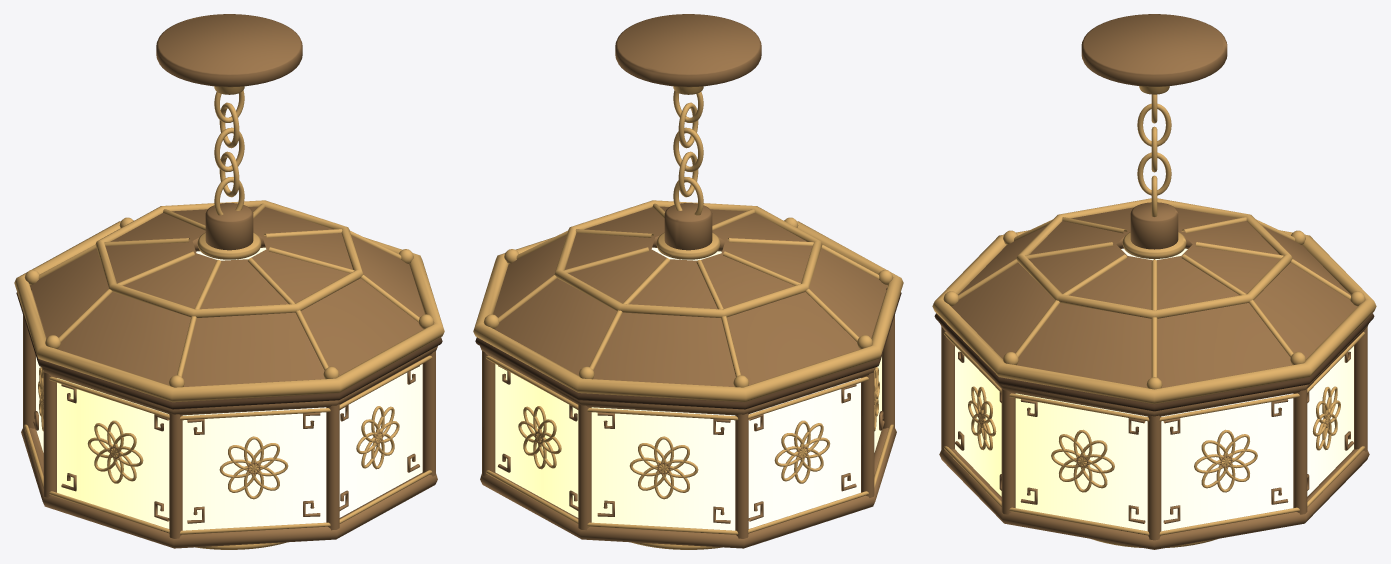
File: gallery-lantern.glb
3 views of the same model, side by side, from view 1: azimuth 30°, elevation 25°; view 2: azimuth 150°, elevation 25°; view 3: azimuth 270°, elevation 25° (orthographic).
Visible parts, largest first — view 1: Lantern_Antique bronze frame, Lantern_Warm frosted glass — opaque mobile safe, Lantern_Polished brass raised ornament, Lantern_Dark patinated recess; view 2: Lantern_Antique bronze frame, Lantern_Warm frosted glass — opaque mobile safe, Lantern_Polished brass raised ornament, Lantern_Dark patinated recess; view 3: Lantern_Antique bronze frame, Lantern_Warm frosted glass — opaque mobile safe, Lantern_Polished brass raised ornament, Lantern_Dark patinated recess.
Boxes of the visible parts, bbox=[...] form: Lantern_Antique bronze frame: bbox=[21, 14, 437, 548]; Lantern_Warm frosted glass — opaque mobile safe: bbox=[36, 247, 422, 530]; Lantern_Polished brass raised ornament: bbox=[14, 85, 444, 549]; Lantern_Dark patinated recess: bbox=[16, 288, 442, 409]; Lantern_Antique bronze frame: bbox=[480, 14, 896, 548]; Lantern_Warm frosted glass — opaque mobile safe: bbox=[495, 247, 881, 530]; Lantern_Polished brass raised ornament: bbox=[473, 85, 903, 549]; Lantern_Dark patinated recess: bbox=[475, 288, 901, 409]; Lantern_Antique bronze frame: bbox=[939, 14, 1369, 549]; Lantern_Warm frosted glass — opaque mobile safe: bbox=[955, 248, 1353, 531]; Lantern_Polished brass raised ornament: bbox=[932, 85, 1376, 547]; Lantern_Dark patinated recess: bbox=[934, 313, 1374, 411].
Size of the model in its own units: 1.4 by 1.75 by 1.4.
